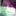with_mask: (1, 2, 16, 16)
